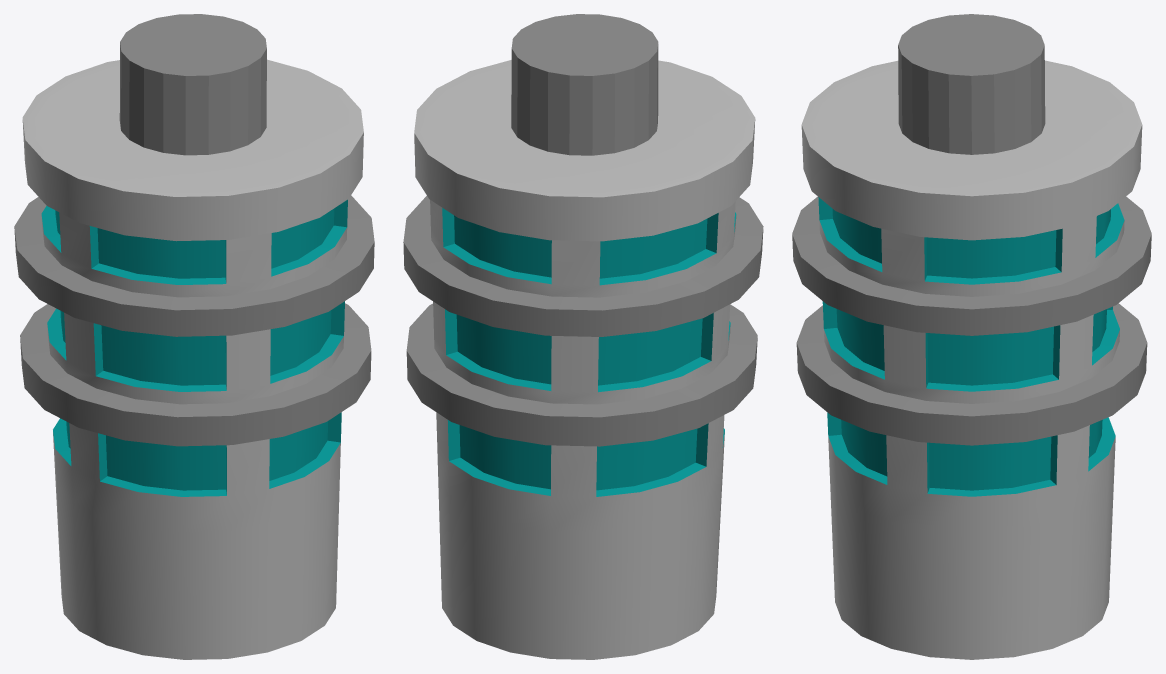
The model's file is BuildingFour.fbx.
3 renders of one model, left to right at view 1: azimuth 30°, elevation 25°; view 2: azimuth 150°, elevation 25°; view 3: azimuth 270°, elevation 25°, orthographic.
Visible parts, largest first — view 1: pCylinder12; view 2: pCylinder12; view 3: pCylinder12.
Boxes of the visible parts, bbox=[...] form: pCylinder12: bbox=[14, 14, 374, 659]; pCylinder12: bbox=[403, 14, 763, 659]; pCylinder12: bbox=[792, 14, 1151, 659].
Size of the model in its own units: 2.62 by 4.47 by 2.62.
